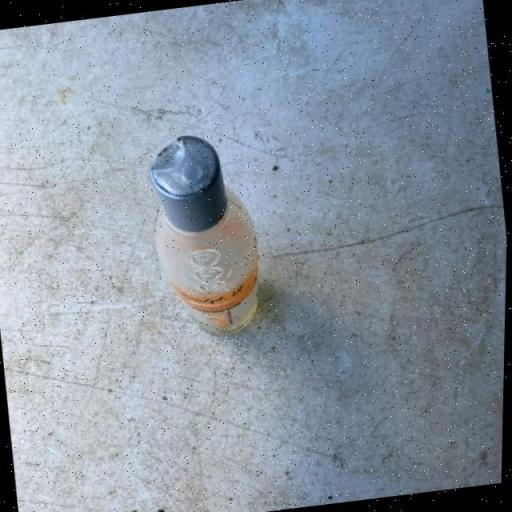plastic: (139, 126, 272, 342)
